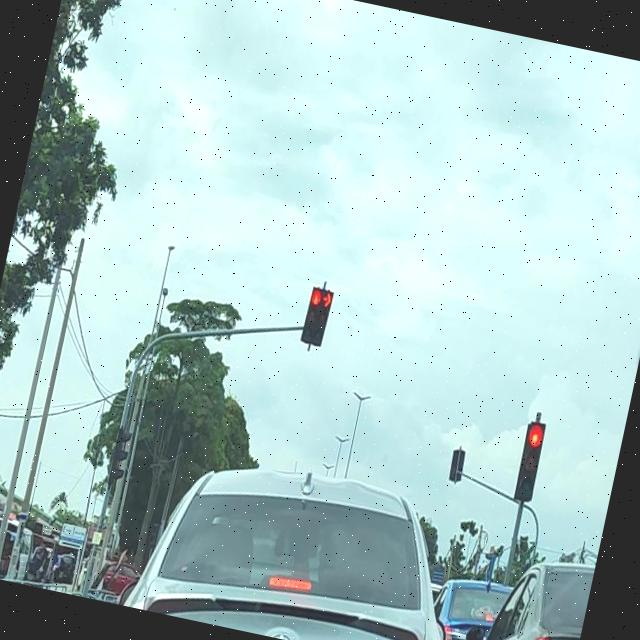red_light: (512, 419, 548, 502), (299, 284, 324, 343), (310, 288, 334, 347)
